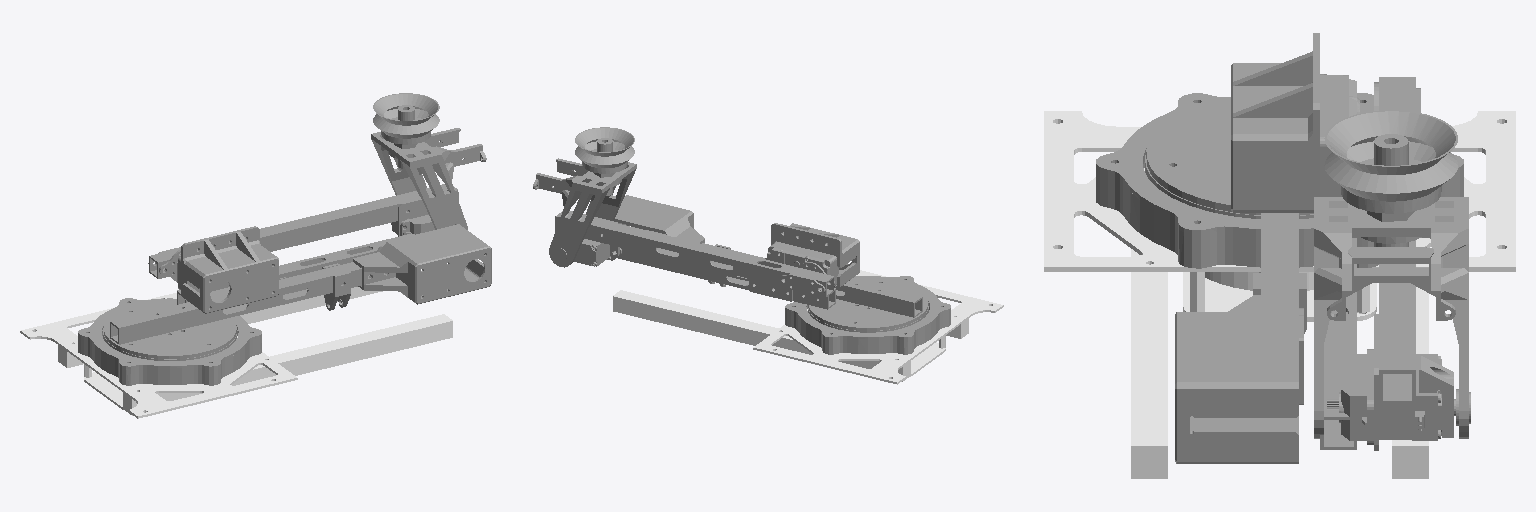
The robot description file, URDF, robot "arm2":
<?xml version="1.0" encoding="utf-8"?>
<!-- This URDF was automatically created by SolidWorks to URDF Exporter! Originally created by Stephen Brawner (brawner@gmail.com) 
     Commit Version: 1.6.0-4-g7f85cfe  Build Version: 1.6.7995.38578
     For more information, please see http://wiki.ros.org/sw_urdf_exporter -->
<robot
  name="arm2">
  <link
    name="arm_base_link">
    <inertial>
      <origin
        xyz="0.014783 0.00010202 0.0201"
        rpy="0 0 0" />
      <mass
        value="0.66509" />
      <inertia
        ixx="0.00045821"
        ixy="-1.8467E-06"
        ixz="1.7333E-06"
        iyy="0.0013721"
        iyz="-3.5576E-07"
        izz="0.0017893" />
    </inertial>
    <visual>
      <origin
        xyz="0 0 0"
        rpy="0 0 0" />
      <geometry>
        <mesh
          filename="package://arm2/model/base_link.STL" />
      </geometry>
      <material
        name="">
        <color
          rgba="1 1 1 1" />
      </material>
    </visual>
    <collision>
      <origin
        xyz="0 0 0"
        rpy="0 0 0" />
      <geometry>
        <mesh
          filename="package://arm2/model/base_link.STL" />
      </geometry>
    </collision>
  </link>
  <link
    name="joint1">
    <inertial>
      <origin
        xyz="0.055911 -0.0026009 -0.0019211"
        rpy="0 0 0" />
      <mass
        value="0.27086" />
      <inertia
        ixx="0.00028894"
        ixy="-3.1862E-06"
        ixz="3.8023E-13"
        iyy="0.00062372"
        iyz="-4.1831E-10"
        izz="0.00088912" />
    </inertial>
    <visual>
      <origin
        xyz="0 0 0"
        rpy="0 0 0" />
      <geometry>
        <mesh
          filename="package://arm2/model/link1.STL" />
      </geometry>
      <material
        name="">
        <color
          rgba="0.69804 0.69804 0.69804 1" />
      </material>
    </visual>
    <collision>
      <origin
        xyz="0 0 0"
        rpy="0 0 0" />
      <geometry>
        <mesh
          filename="package://arm2/model/link1.STL" />
      </geometry>
    </collision>
  </link>
  <joint
    name="joint1"
    type="revolute">
    <origin
      xyz="0 0 0.045"
      rpy="0 0 0" />
    <parent
      link="arm_base_link" />
    <child
      link="joint1" />
    <axis
      xyz="0 0 -1" />
    <limit
      lower="-3.14"
      upper="3.14"
      effort="10"
      velocity="10" />
  </joint>
  <link
    name="joint2">
    <inertial>
      <origin
        xyz="0.15574 0.013687 0.0019175"
        rpy="0 0 0" />
      <mass
        value="0.11716" />
      <inertia
        ixx="1.6104E-05"
        ixy="1.787E-07"
        ixz="1.8605E-07"
        iyy="0.00033829"
        iyz="1.3553E-06"
        izz="0.00034196" />
    </inertial>
    <visual>
      <origin
        xyz="0 0 0"
        rpy="0 0 0" />
      <geometry>
        <mesh
          filename="package://arm2/model/link2.STL" />
      </geometry>
      <material
        name="">
        <color
          rgba="0.69804 0.69804 0.69804 1" />
      </material>
    </visual>
    <collision>
      <origin
        xyz="0 0 0"
        rpy="0 0 0" />
      <geometry>
        <mesh
          filename="package://arm2/model/link2.STL" />
      </geometry>
    </collision>
  </link>
  <joint
    name="joint2"
    type="revolute">
    <origin
      xyz="0.26 0.0162 0.0075"
      rpy="1.5708 0 -3.1416" />
    <parent
      link="joint1" />
    <child
      link="joint2" />
    <axis
      xyz="0 0 1" />
    <limit
      lower="-3.14"
      upper="3.14"
      effort="10"
      velocity="10" />
  </joint>
  <link
    name="joint3">
    <inertial>
      <origin
        xyz="0.17263 0.0089207 0.0061556"
        rpy="0 0 0" />
      <mass
        value="0.13105" />
      <inertia
        ixx="1.5148E-05"
        ixy="-6.6213E-07"
        ixz="2.9091E-08"
        iyy="0.0003911"
        iyz="5.752E-08"
        izz="0.00038553" />
    </inertial>
    <visual>
      <origin
        xyz="0 0 0"
        rpy="0 0 0" />
      <geometry>
        <mesh
          filename="package://arm2/model/link3.STL" />
      </geometry>
      <material
        name="">
        <color
          rgba="0.69804 0.69804 0.69804 1" />
      </material>
    </visual>
    <collision>
      <origin
        xyz="0 0 0"
        rpy="0 0 0" />
      <geometry>
        <mesh
          filename="package://arm2/model/link3.STL" />
      </geometry>
    </collision>
  </link>
  <joint
    name="joint3"
    type="revolute">
    <origin
      xyz="0.224 0.0243 0.0237"
      rpy="0 0 3.1415" />
    <parent
      link="joint2" />
    <child
      link="joint3" />
    <axis
      xyz="0 0 -1" />
    <limit
      lower="-3.14"
      upper="3.14"
      effort="10"
      velocity="10" />
  </joint>
  <link
    name="joint4">
    <inertial>
      <origin
        xyz="0.046952 -0.013438 0.027003"
        rpy="0 0 0" />
      <mass
        value="0.039471" />
      <inertia
        ixx="3.0275E-05"
        ixy="-5.0459E-06"
        ixz="5.3658E-07"
        iyy="4.2026E-05"
        iyz="-1.7446E-07"
        izz="2.7684E-05" />
    </inertial>
    <visual>
      <origin
        xyz="0 0 0"
        rpy="0 0 0" />
      <geometry>
        <mesh
          filename="package://arm2/model/link4.STL" />
      </geometry>
      <material
        name="">
        <color
          rgba="0.69804 0.69804 0.69804 1" />
      </material>
    </visual>
    <collision>
      <origin
        xyz="0 0 0"
        rpy="0 0 0" />
      <geometry>
        <mesh
          filename="package://arm2/model/link4.STL" />
      </geometry>
    </collision>
  </link>
  <joint
    name="joint4"
    type="revolute">
    <origin
      xyz="0.238 0.0175 -0.021"
      rpy="0 0 -1.5704" />
    <parent
      link="joint3" />
    <child
      link="joint4" />
    <axis
      xyz="0 0 1" />
    <limit
      lower="-3.14"
      upper="3.14"
      effort="10"
      velocity="10" />
  </joint>
  <link
    name="joint5">
    <inertial>
      <origin
        xyz="-0.021355 0 0"
        rpy="0 0 0" />
      <mass
        value="0.098688" />
      <inertia
        ixx="1.5569E-05"
        ixy="6.5645E-21"
        ixz="-7.4909E-21"
        iyy="2.0016E-05"
        iyz="-1.6941E-21"
        izz="2.0016E-05" />
    </inertial>
    <visual>
      <origin
        xyz="0 0 0"
        rpy="0 0 0" />
      <geometry>
        <mesh
          filename="package://arm2/model/link5.STL" />
      </geometry>
      <material
        name="">
        <color
          rgba="0.69804 0.69804 0.69804 1" />
      </material>
    </visual>
    <collision>
      <origin
        xyz="0 0 0"
        rpy="0 0 0" />
      <geometry>
        <mesh
          filename="package://arm2/model/link5.STL" />
      </geometry>
    </collision>
  </link>
  <joint
    name="joint5"
    type="fixed">
    <origin
      xyz="0.1058 -0.0275 0.026"
      rpy="1.5708 0 0" />
    <parent
      link="joint4" />
    <child
      link="joint5" />
    <axis
      xyz="0 0 0" />
  </joint>
</robot>

--- What the picture shows (computed from the rendered views, not written in the file) ---
3 views of the same robot in one strip: view 1: azimuth 30°, elevation 25°; view 2: azimuth 150°, elevation 25°; view 3: azimuth 270°, elevation 25° (orthographic).
Model arm2 with 6 links and 5 joints (4 revolute, 1 fixed), rooted at arm_base_link, posed all joints at 0.
Links seen in each view (by area): view 1: joint1, arm_base_link, joint2, joint3, joint4, joint5; view 2: joint1, arm_base_link, joint3, joint2, joint4, joint5; view 3: joint1, arm_base_link, joint2, joint4, joint3, joint5.
Boxes of the visible links, bbox=[...] form: joint1: bbox=[78, 224, 491, 385]; arm_base_link: bbox=[20, 287, 452, 418]; joint2: bbox=[177, 226, 414, 313]; joint3: bbox=[148, 184, 458, 281]; joint4: bbox=[371, 128, 486, 229]; joint5: bbox=[373, 93, 439, 168]; joint1: bbox=[614, 195, 950, 354]; arm_base_link: bbox=[613, 270, 1003, 384]; joint3: bbox=[555, 211, 834, 296]; joint2: bbox=[611, 223, 859, 309]; joint4: bbox=[533, 158, 636, 267]; joint5: bbox=[575, 127, 634, 195]; joint1: bbox=[1096, 93, 1463, 463]; arm_base_link: bbox=[1044, 111, 1515, 478]; joint2: bbox=[1231, 33, 1361, 449]; joint4: bbox=[1314, 197, 1470, 438]; joint3: bbox=[1327, 77, 1455, 450]; joint5: bbox=[1324, 110, 1457, 246].
Bounding box of the posed robot: 0.3915 × 0.19 × 0.1673 m (x, y, z).
Meshes: 6 distinct files referenced, 6 mesh visuals loaded (6 binary STL).
